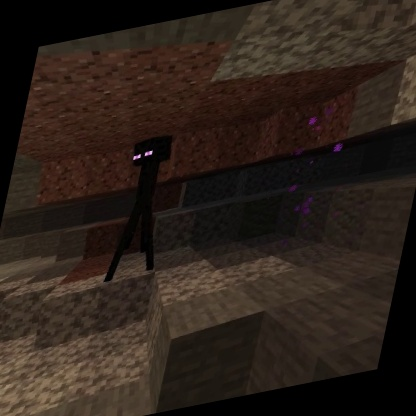enderman: (99, 130, 184, 286)
